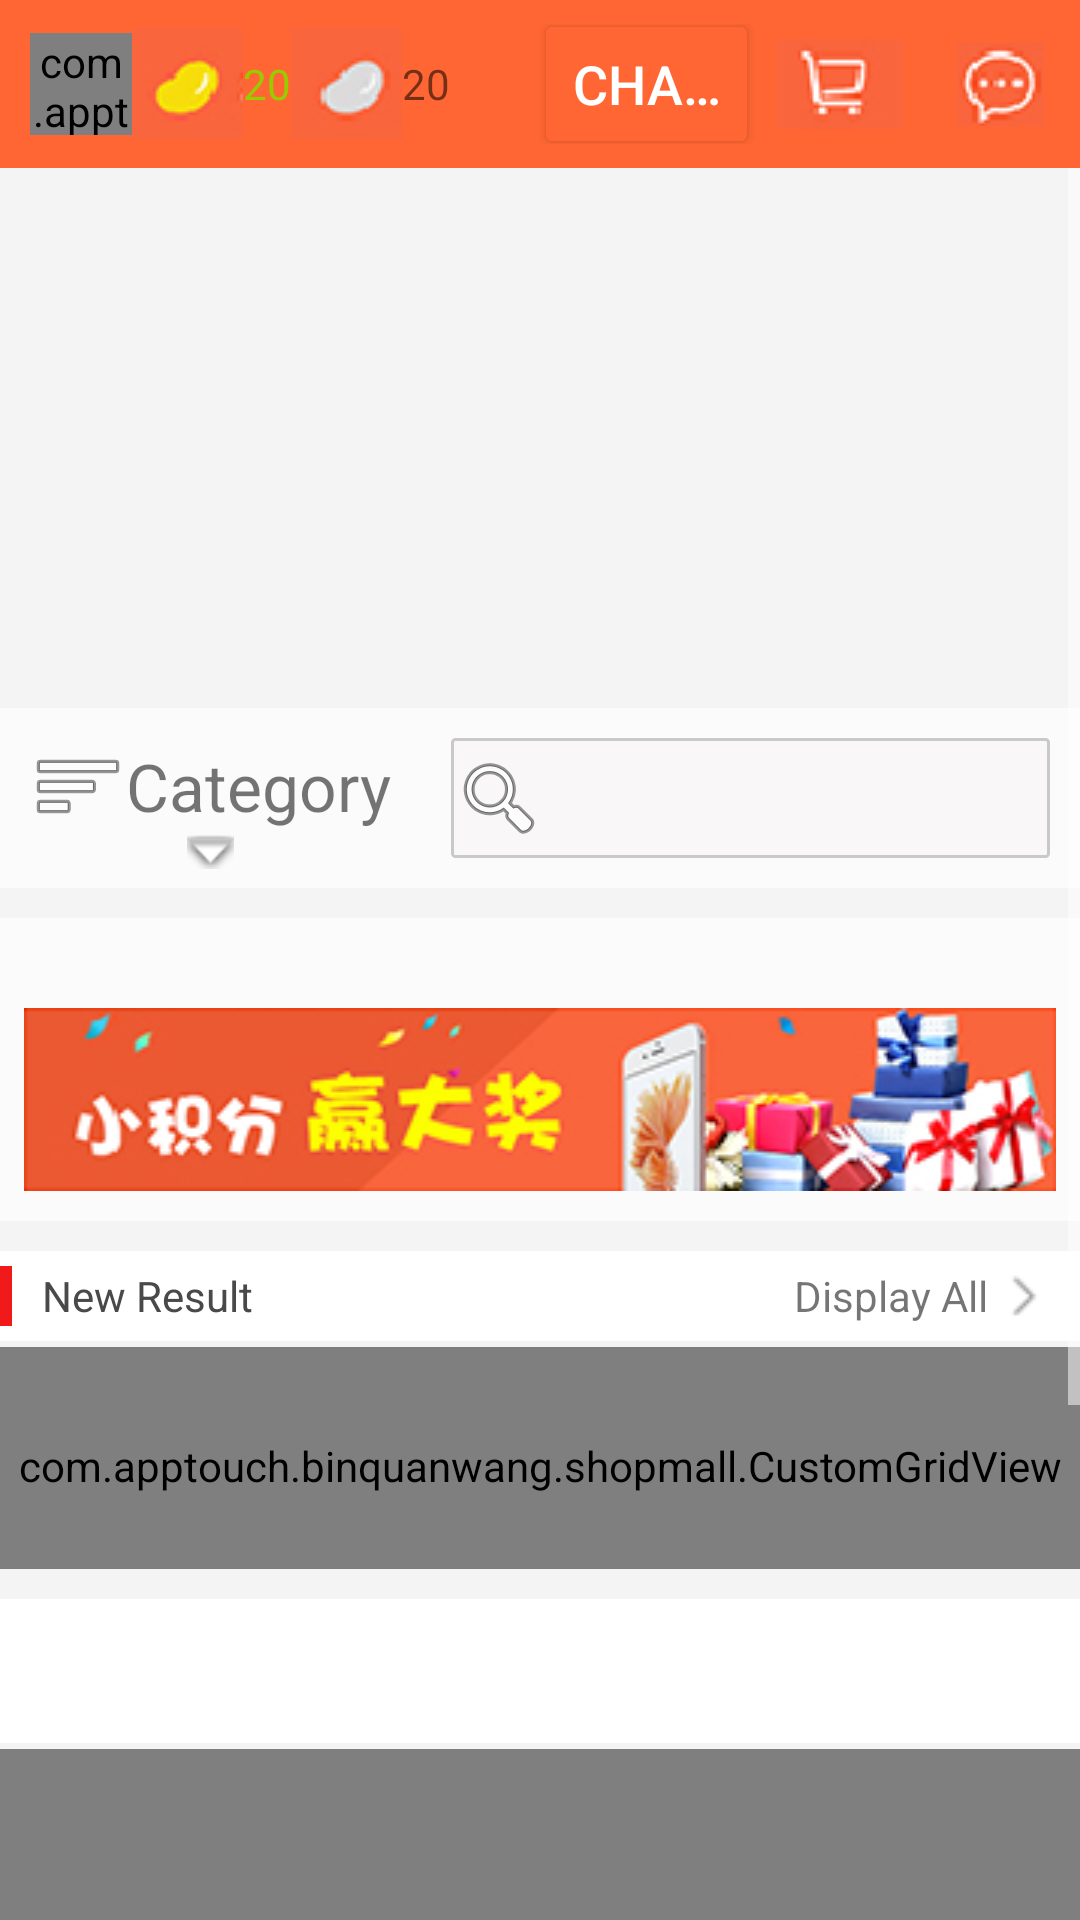

Icon click points for this 1080 x 1920 phone screenshot, format point (x, y):
arrow down float: point (210, 852)
goldbean: point (199, 87)
messages: point (1000, 84)
silverbean: point (352, 87)
